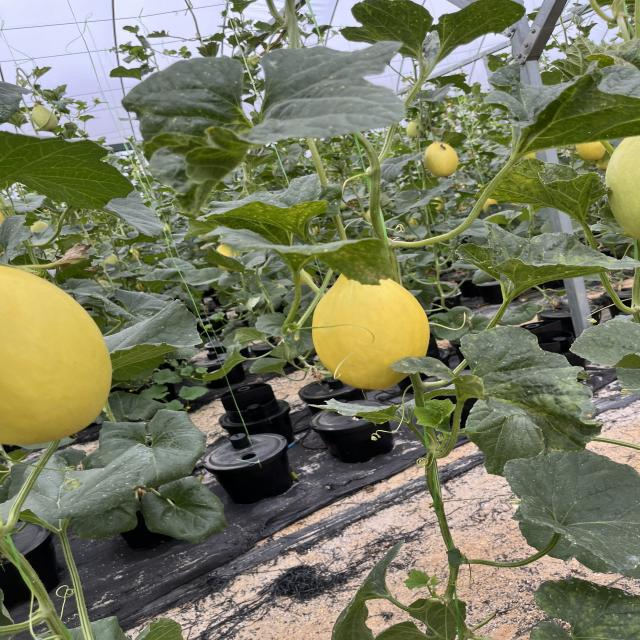SLCV: (408, 328, 606, 465), (120, 54, 253, 168), (446, 220, 634, 299), (475, 156, 634, 221)
bacterial wilt: (56, 246, 90, 268)
downy mildew: (504, 452, 640, 574), (484, 55, 640, 151), (0, 134, 127, 210), (509, 571, 640, 640), (348, 0, 530, 49), (211, 170, 337, 240), (115, 297, 212, 377)
powdery mildew: (475, 55, 640, 149)
